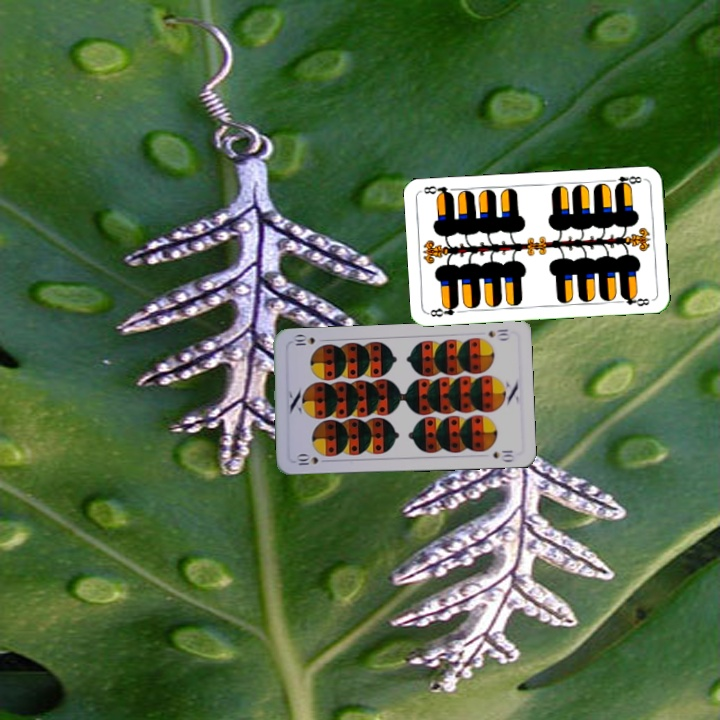E8: (606, 172, 644, 190), (425, 300, 461, 319)
S10: (484, 325, 512, 343), (291, 451, 320, 468)
